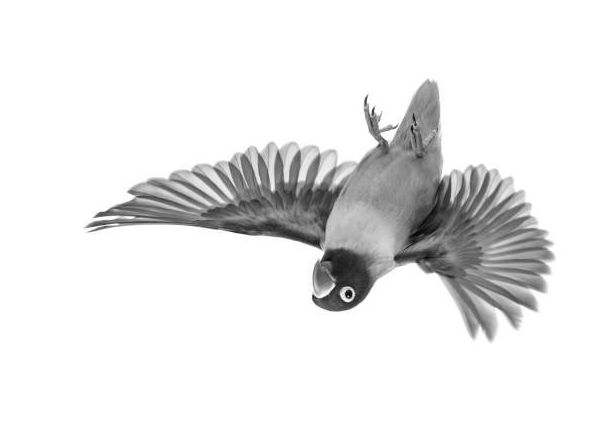Bird: (78, 74, 557, 348)
